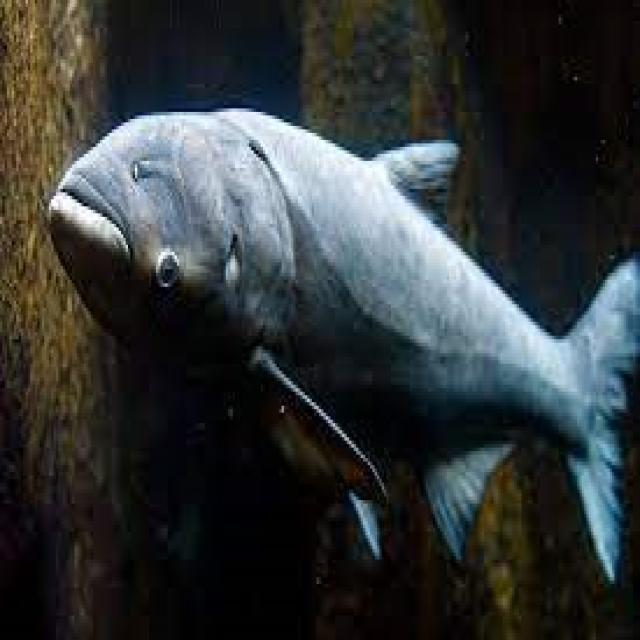Big-Head-Carp: (25, 19, 631, 582)
